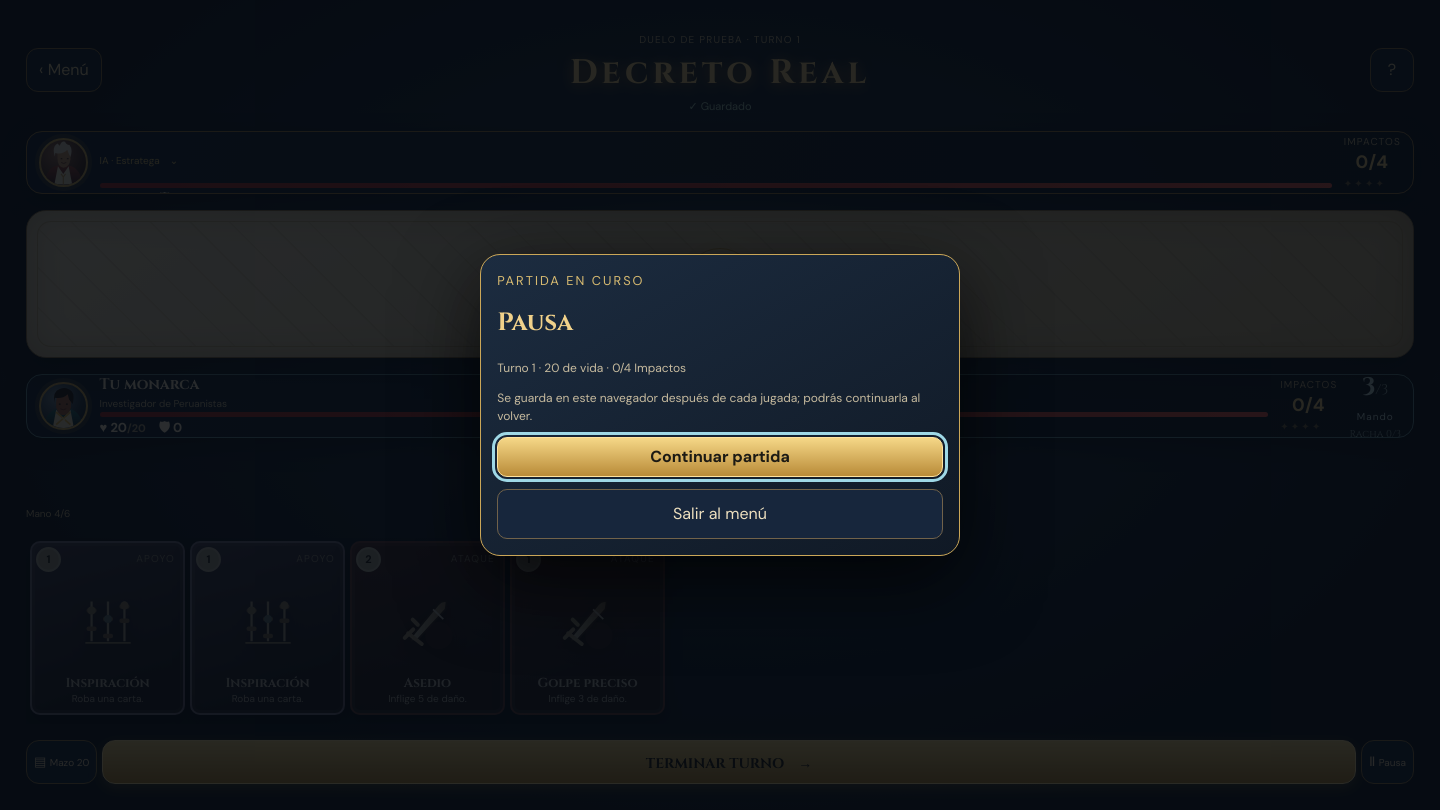
it: /duelo-v1 + real DR-01 engine › pauses/resumes without changing counters, supports backdrop close and exit
Earlier steps of the test are not shown.
expect the text "DUELO DE PRUEBA · TURNO 1" is shown: met, box [639, 33, 801, 46]
Click the button "Continuar partida": (720, 457) [497, 437, 943, 477]
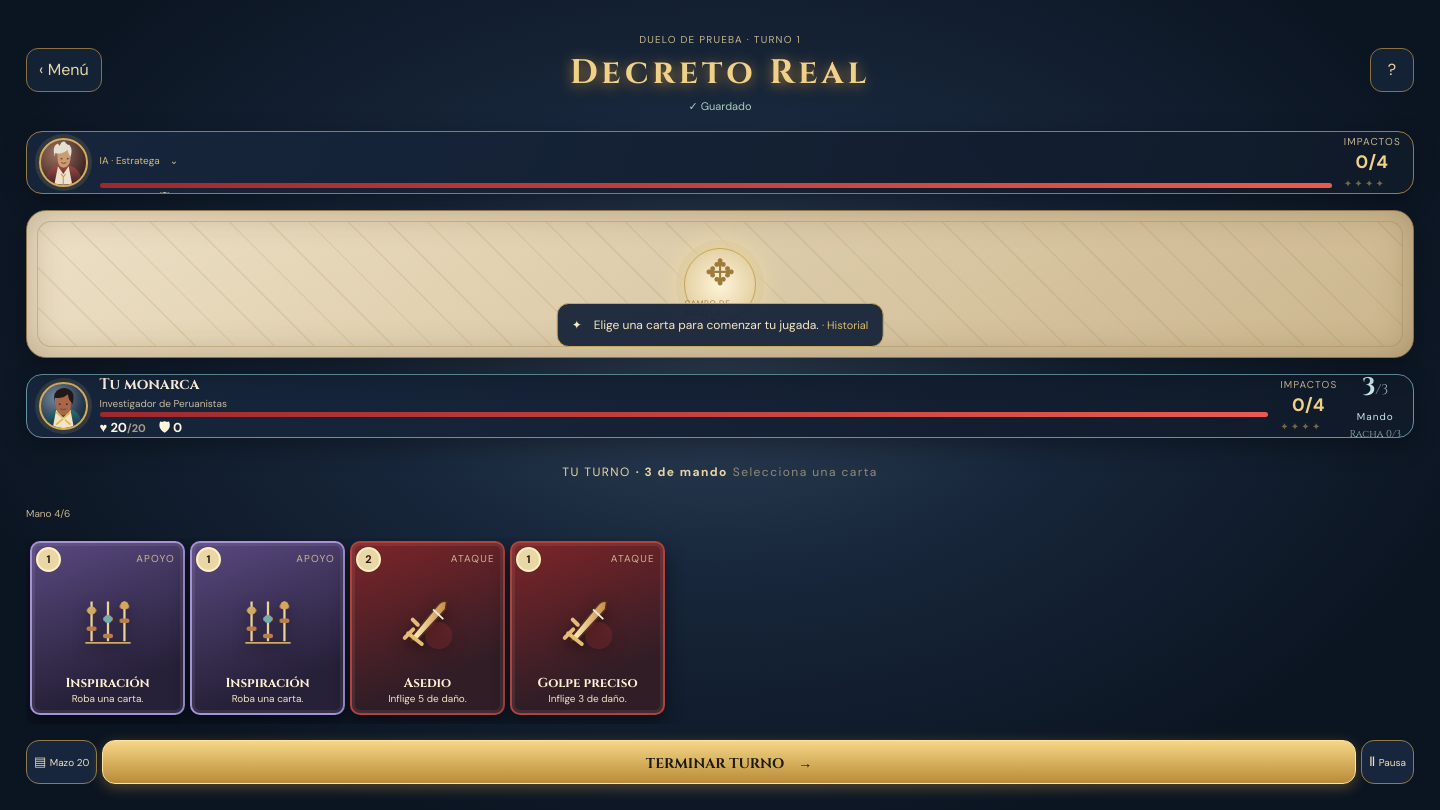
expect the text "DUELO DE PRUEBA · TURNO 1" is shown: met, box [639, 33, 801, 46]
expect the dialog is gone: met
Click the button with aria-label "Pausar partida": (1387, 762) [1361, 740, 1414, 784]
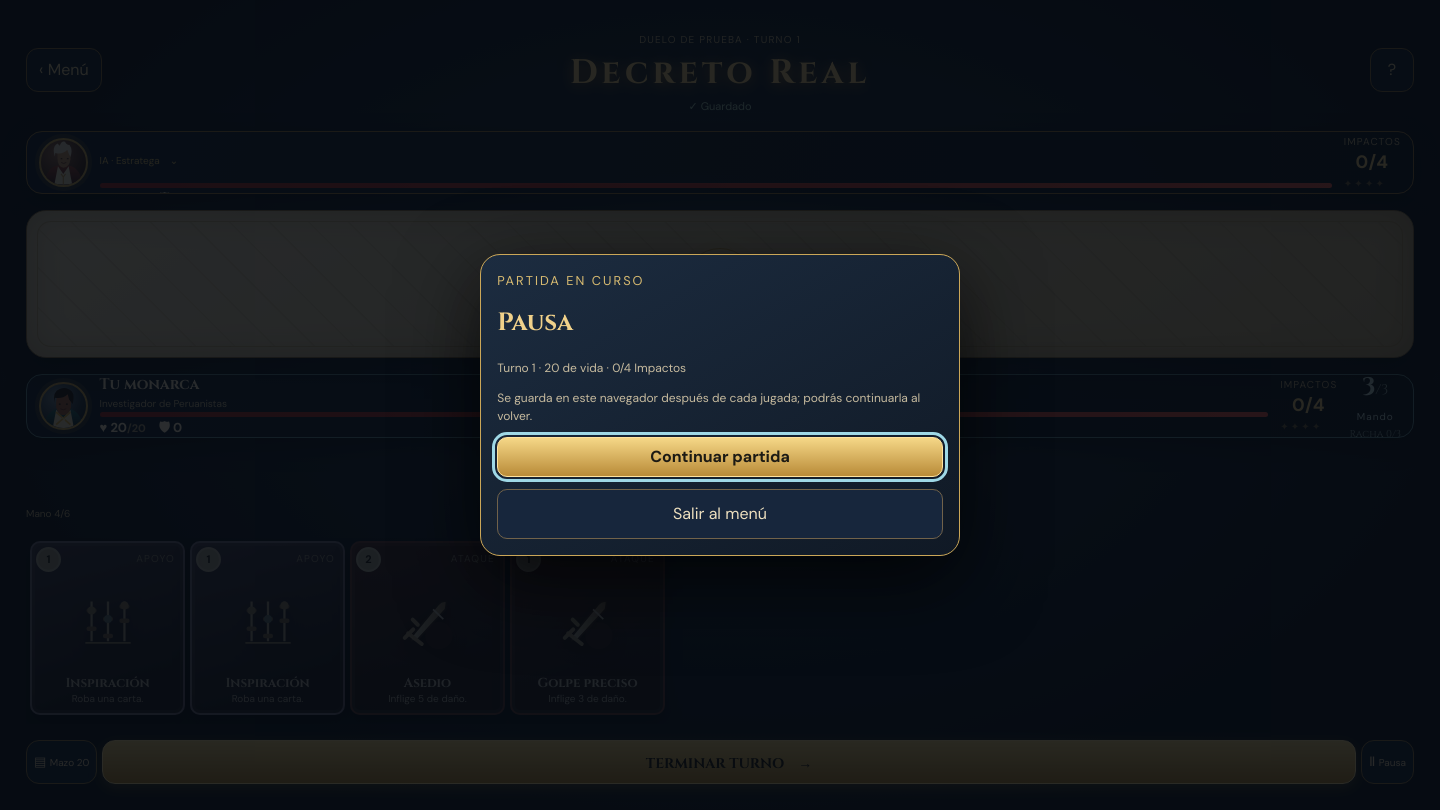
Click the element with class "dr-overlay": (86, 405) [0, 0, 1439, 809]
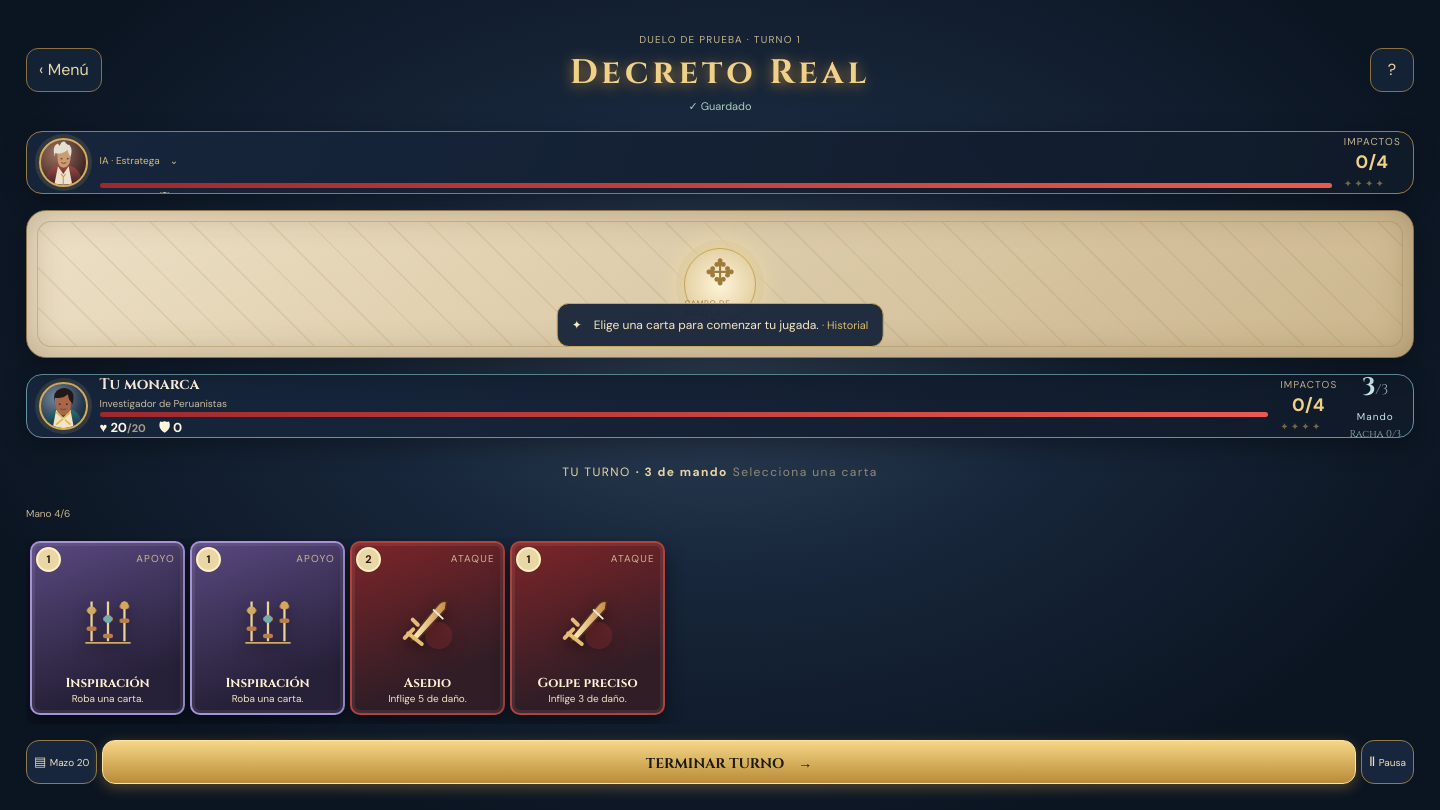
expect the dialog is gone: met
Click the button with aria-label "Pausar partida": (1387, 762) [1361, 740, 1414, 784]
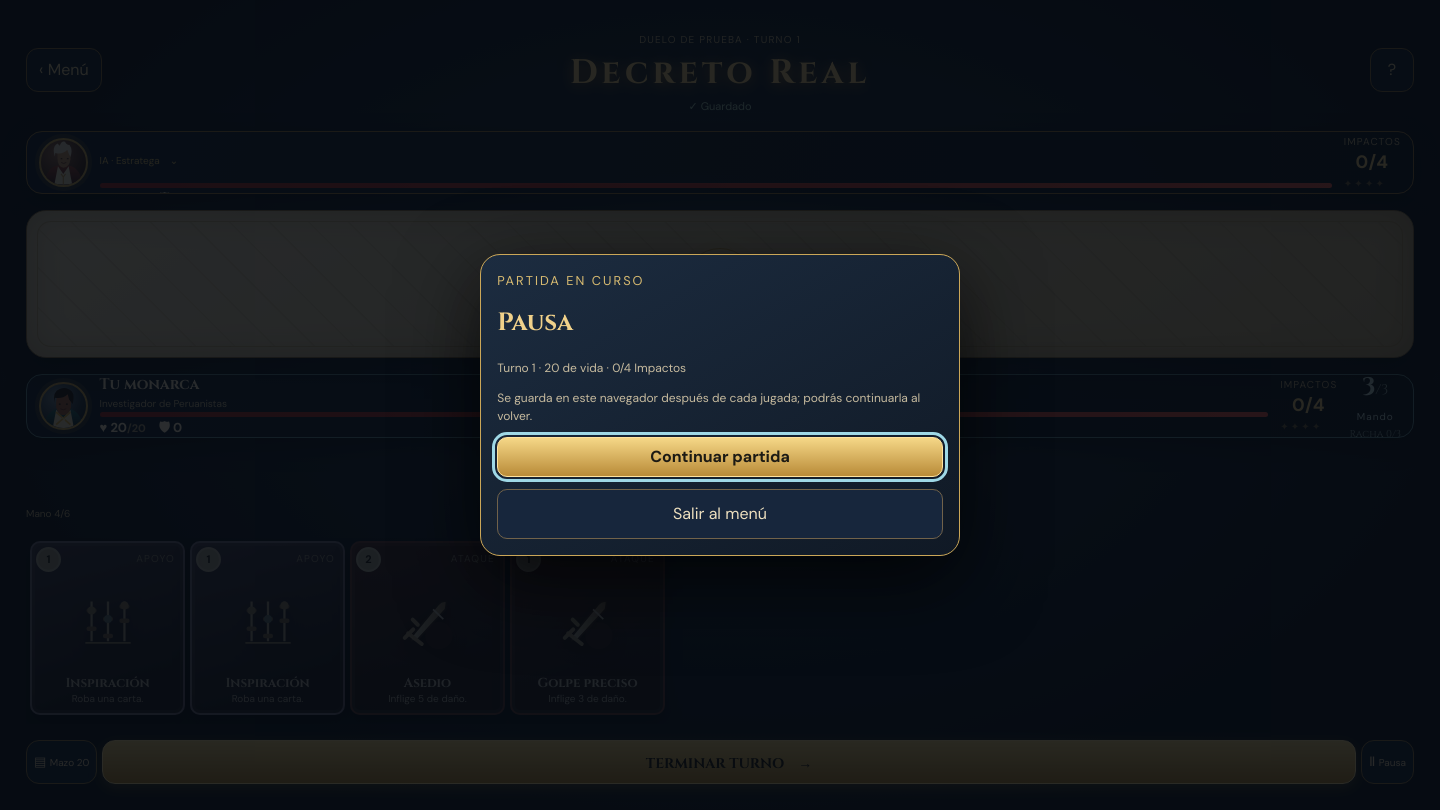
Click the button "Salir al menú": (720, 514) [497, 489, 943, 539]
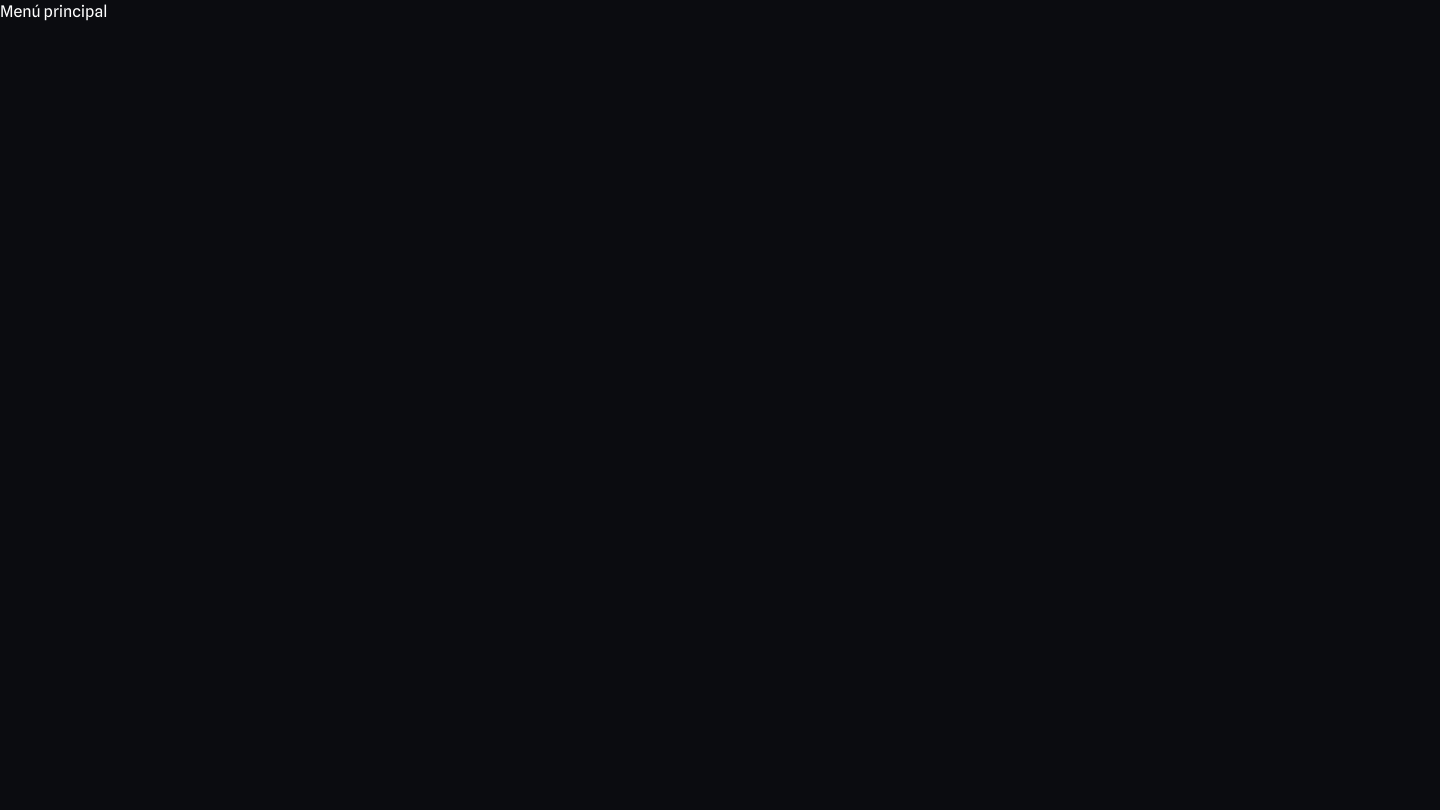
expect the heading "Menú principal" is shown: met, box [0, 2, 107, 21]
